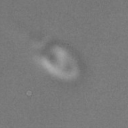normal: (1, 17, 44, 53)
